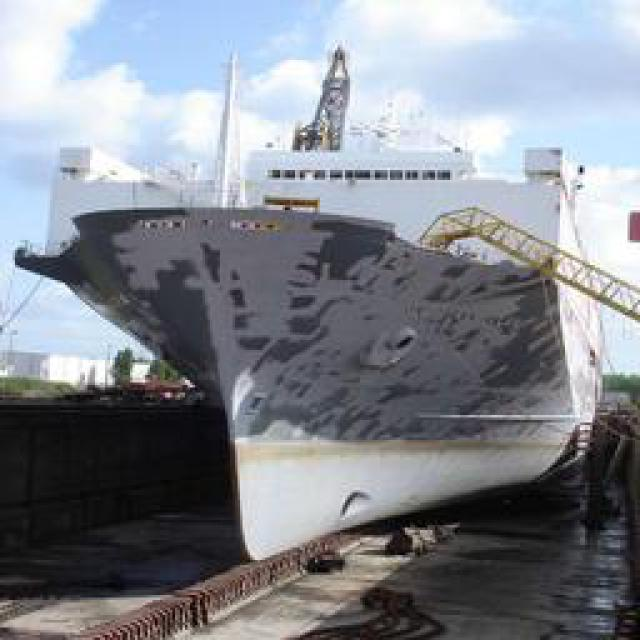Ship: (50, 196, 605, 571)
